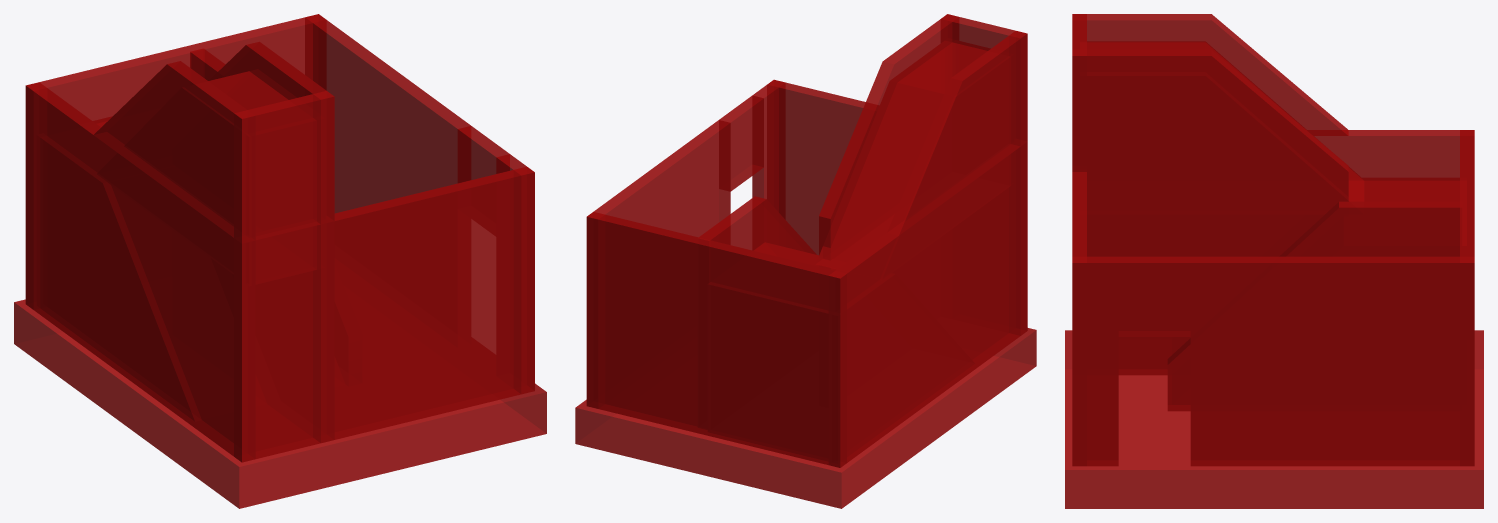
The model's file is SM_Bld_Village_House_Stairs_01_Collision.fbx.
3 renders of one model, left to right at view 1: azimuth 30°, elevation 25°; view 2: azimuth 150°, elevation 25°; view 3: azimuth 270°, elevation 25°, orthographic. The views are drawn at different scales.
Parts seen in each view (by area): view 1: SM_Bld_Village_House_Stairs_01_Collision; view 2: SM_Bld_Village_House_Stairs_01_Collision; view 3: SM_Bld_Village_House_Stairs_01_Collision.
Part boxes in pixels (<box>): SM_Bld_Village_House_Stairs_01_Collision: <box>14,14,546,508</box>; SM_Bld_Village_House_Stairs_01_Collision: <box>575,14,1036,508</box>; SM_Bld_Village_House_Stairs_01_Collision: <box>1065,14,1483,508</box>.
Bounding box in the file's own units: 565 × 677 × 717.
